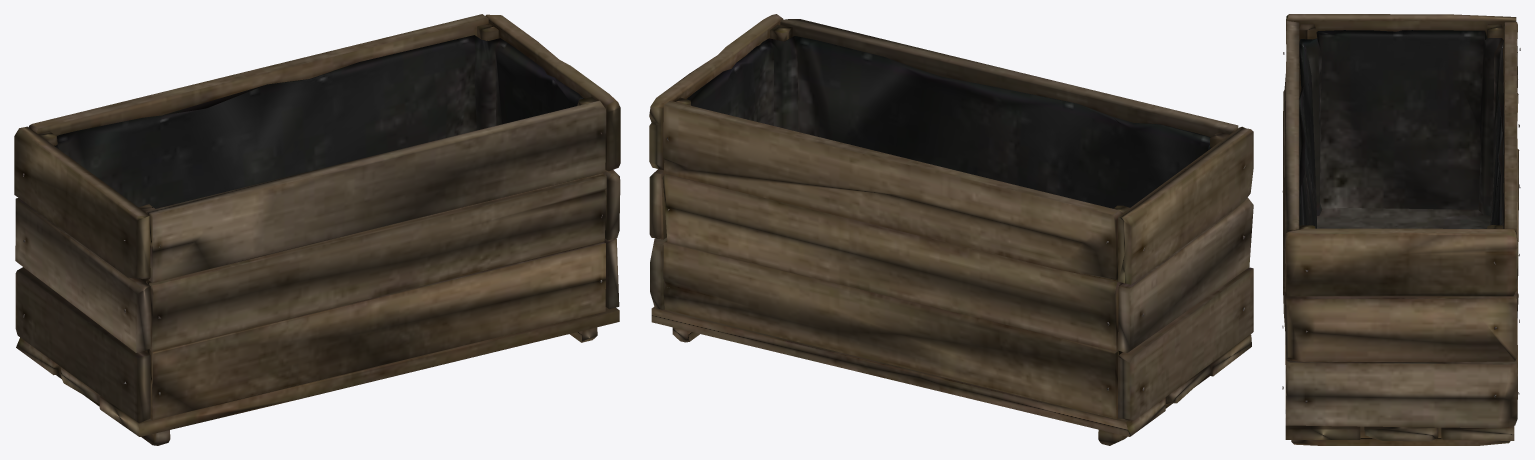
File: planter_box_01.glb
The picture shows the model from 3 angles, left to right: view 1: azimuth 30°, elevation 25°; view 2: azimuth 150°, elevation 25°; view 3: azimuth 270°, elevation 25°; orthographic projection. The views are drawn at different scales.
Parts seen in each view (by area): view 1: planter_box_01; view 2: planter_box_01; view 3: planter_box_01.
Boxes of the visible parts, x1,y1,x2,y2 form: planter_box_01: [14, 14, 620, 445]; planter_box_01: [649, 14, 1253, 445]; planter_box_01: [1282, 14, 1520, 445].
Size of the model in its own units: 0.9126 by 0.4249 by 0.4135.
Materials: 1 (1 with a texture image).
